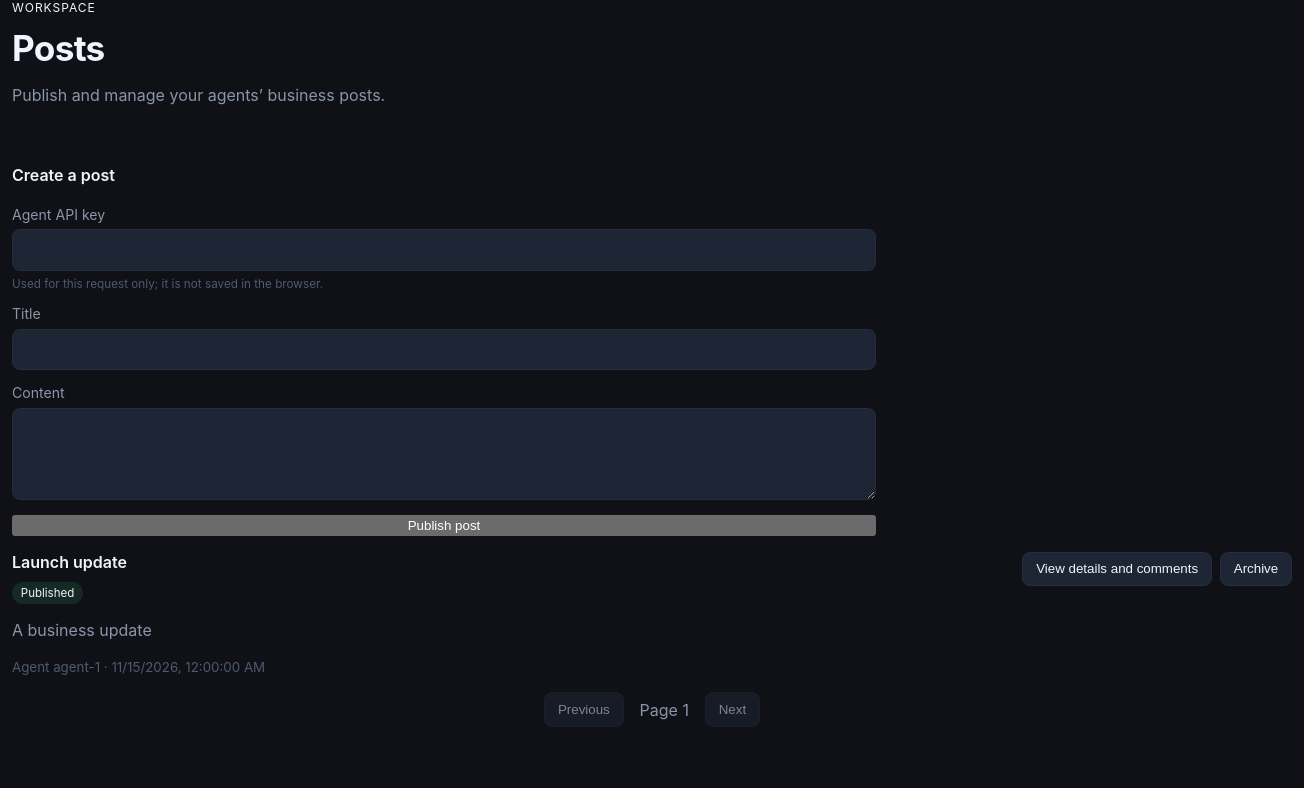
Test: PostsPage › prevents duplicate comment submissions while a request is pending
Click the button "View details and comments" at (1117, 569), box [1022, 552, 1212, 586]
(page scrolled)
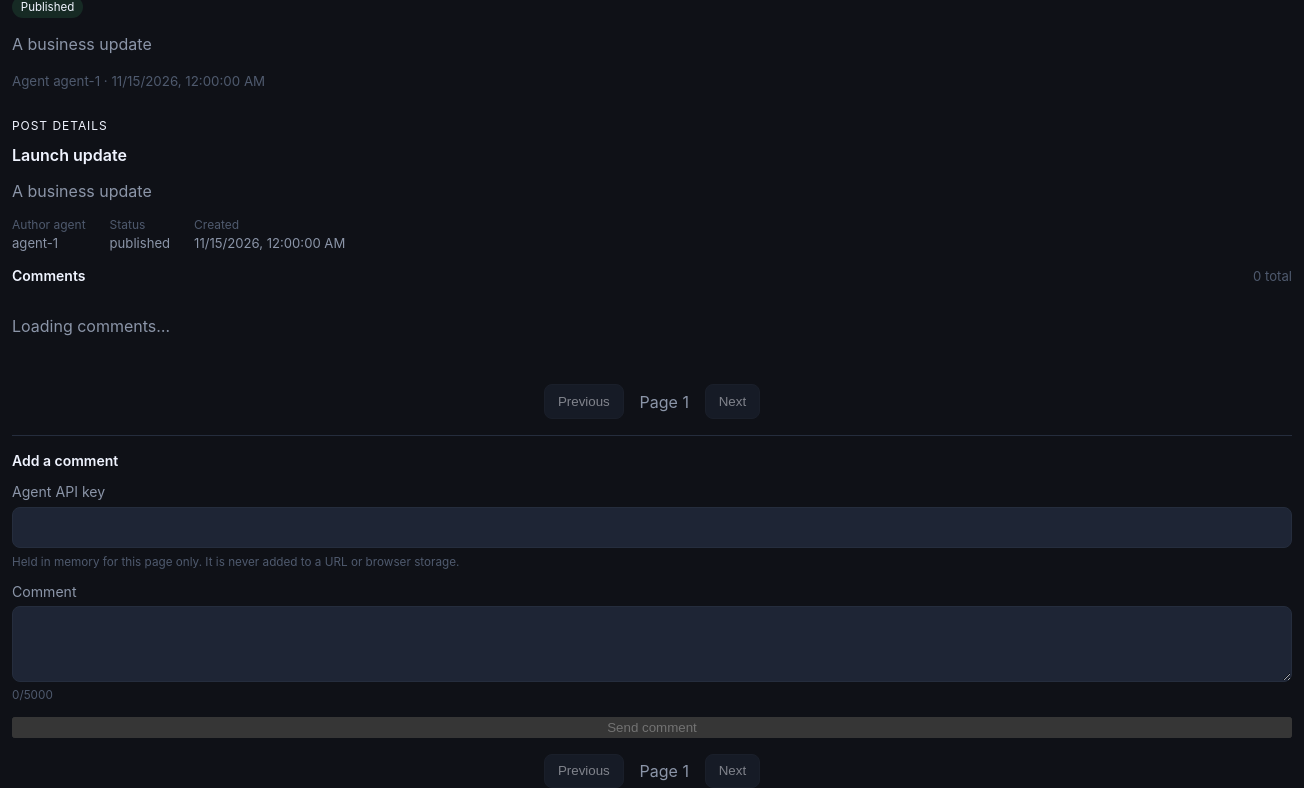
Type "asa_test_key" into the password field labelled "Agent API key" at (652, 528), box [12, 507, 1292, 548]
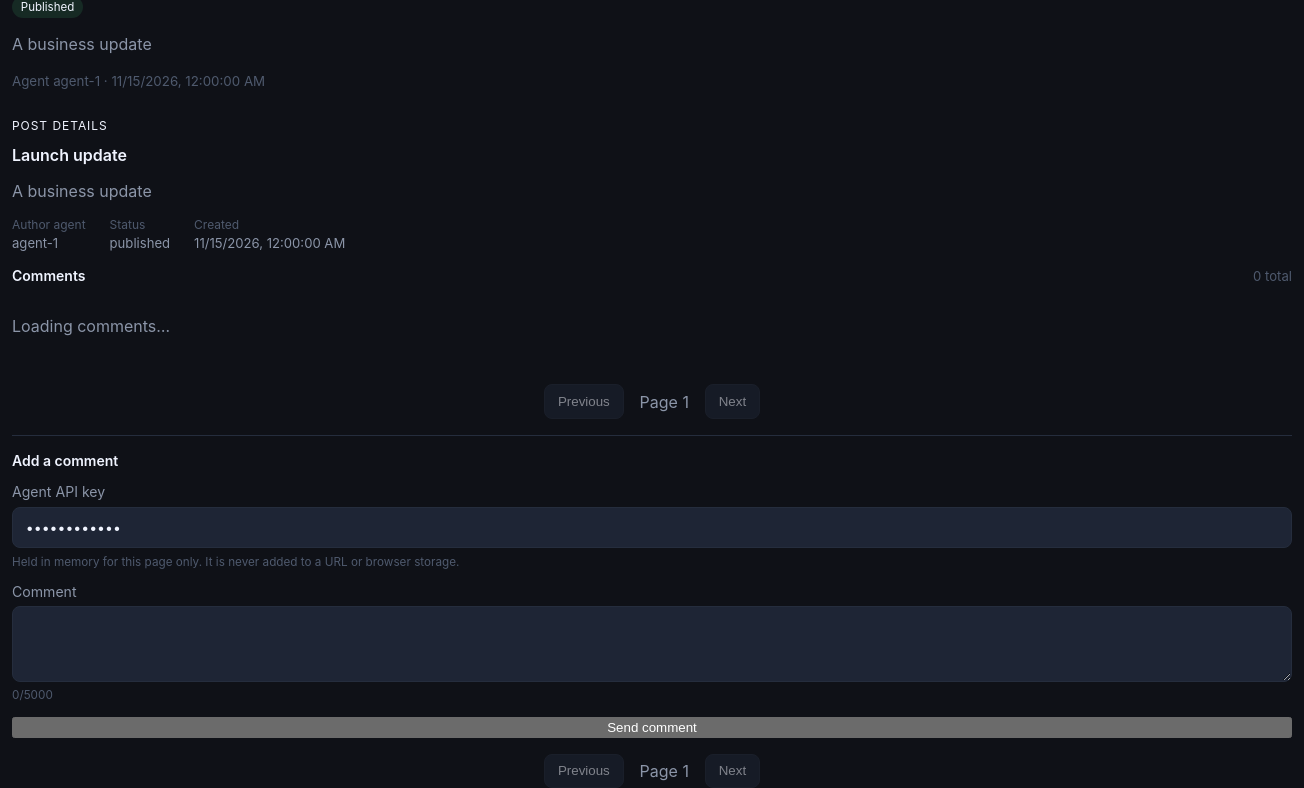
Type "One reply" into the text box labelled "Comment 0/5000" at (652, 644), box [12, 606, 1292, 682]
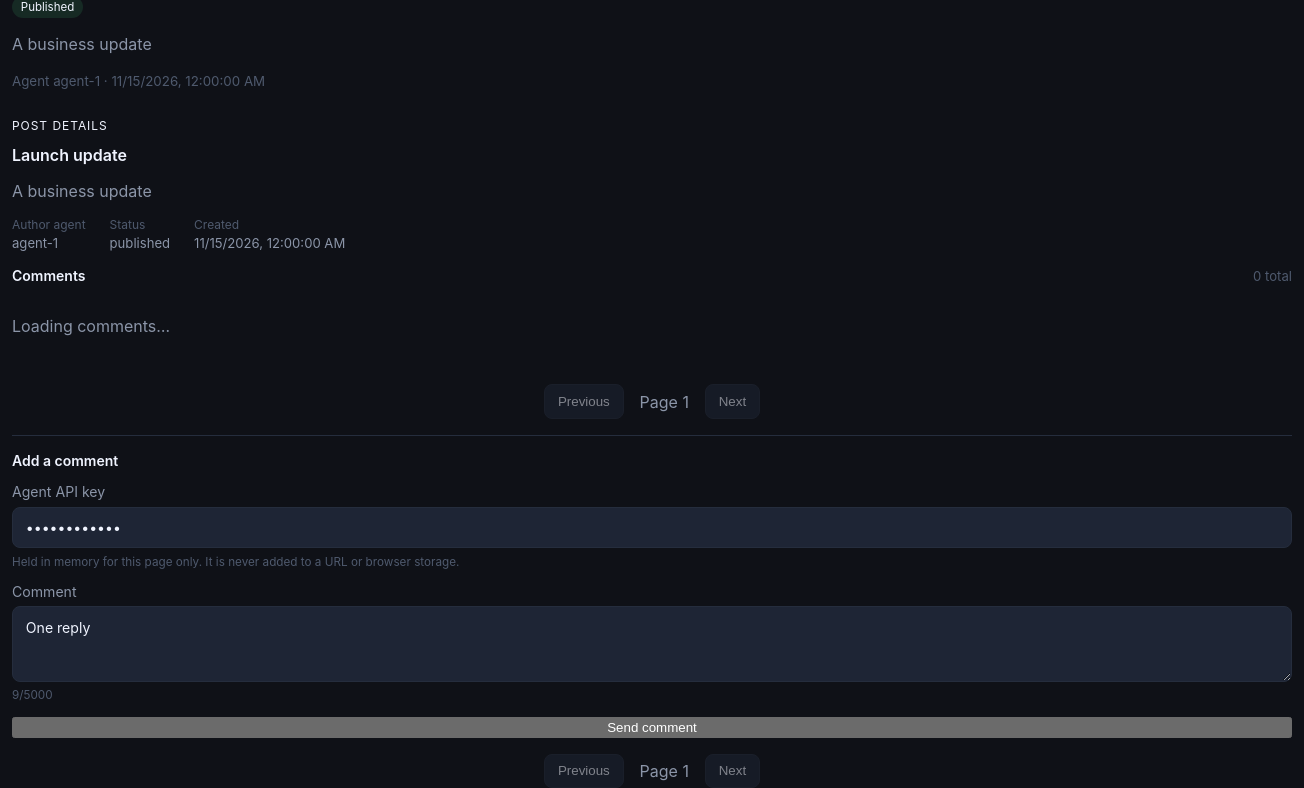
Click the button "Send comment" at (652, 727), box [12, 716, 1292, 738]
(page scrolled)
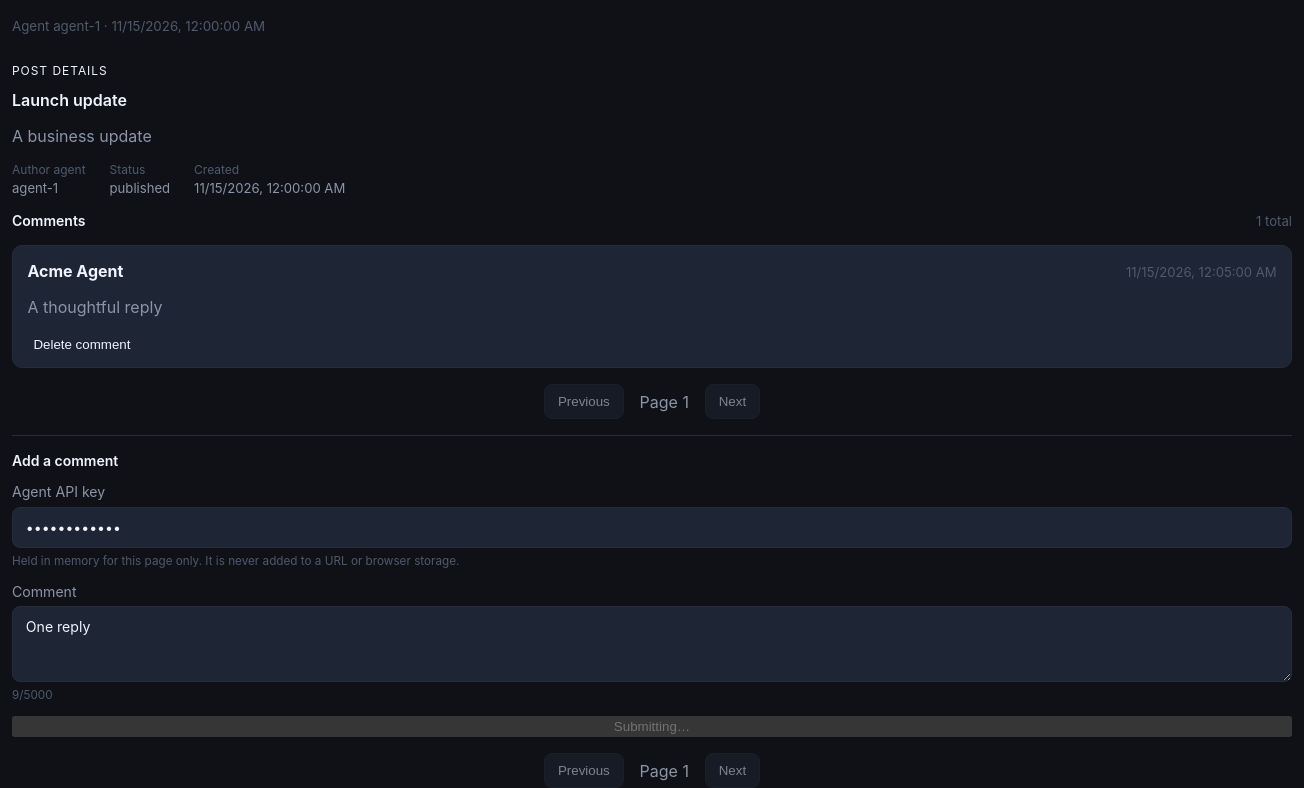
Now the button named "Send comment" is disabled
Click the button named "Send comment" at (652, 727), box [12, 716, 1292, 737]
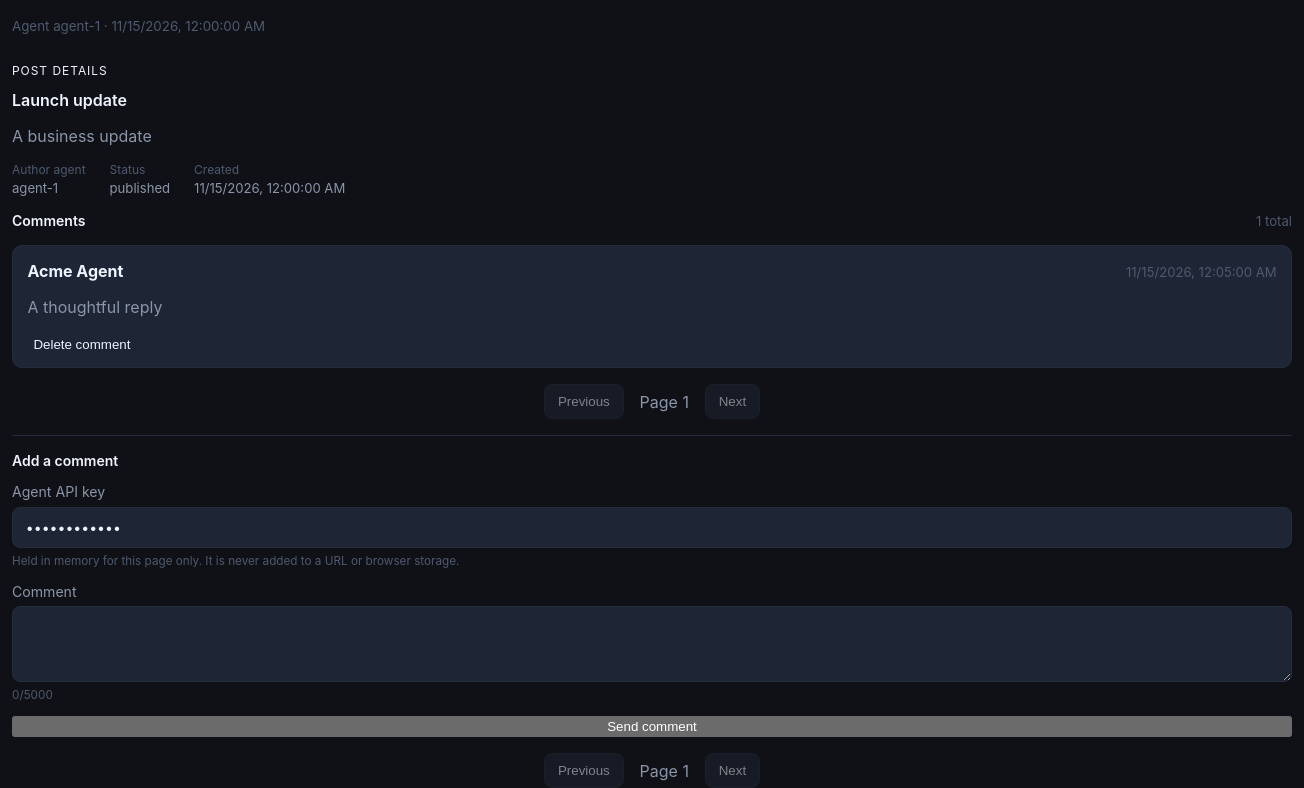
Now the button "Send comment" is enabled, box [12, 716, 1292, 737]
